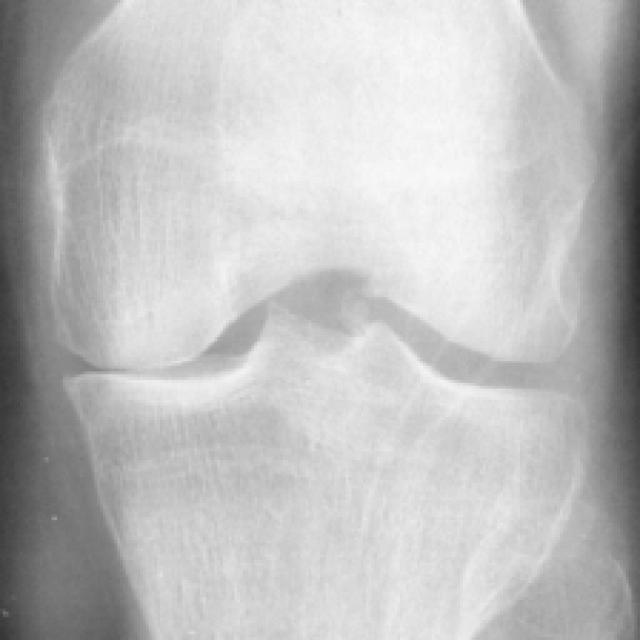femur: (51, 0, 587, 371)
tibia: (62, 309, 591, 640)
